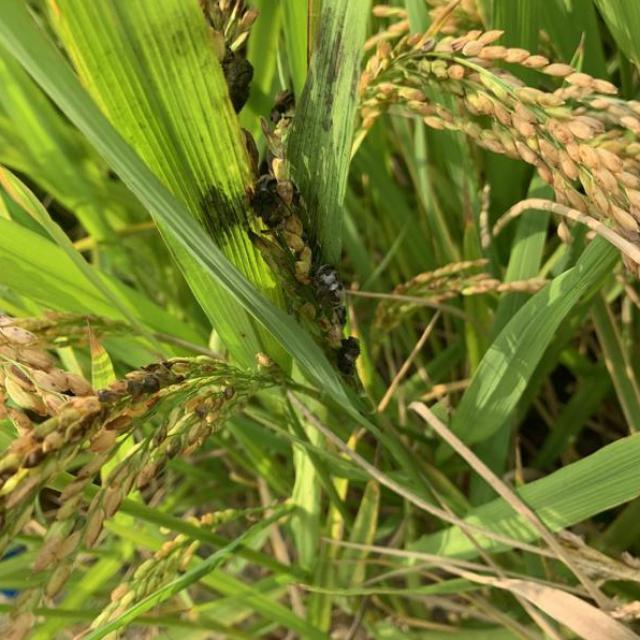Leaf_Scald: (248, 172, 300, 230), (219, 41, 257, 116), (309, 260, 352, 312), (334, 336, 364, 376)
